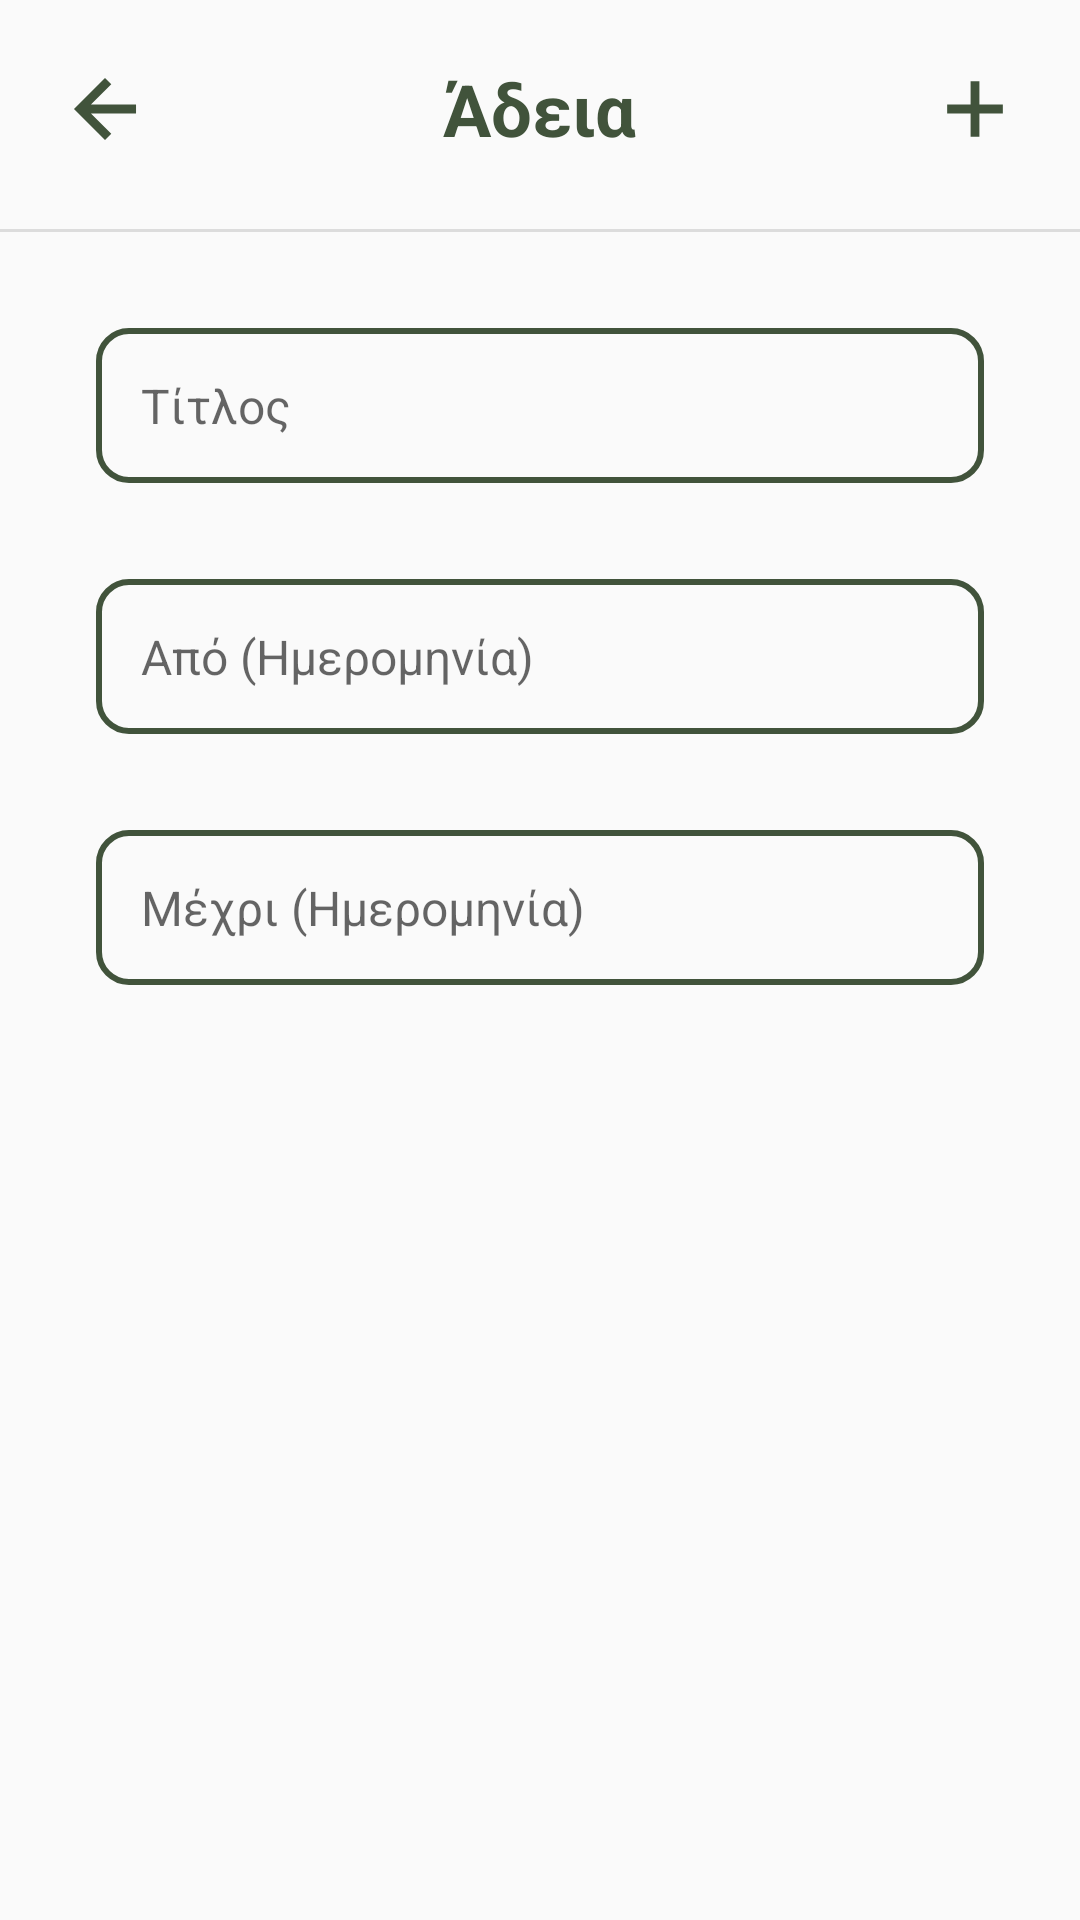

Named icons in this screenshot (1080px×1920px) and their centers, [x,y]:
add: [975,109]
arrow back: [105,109]
